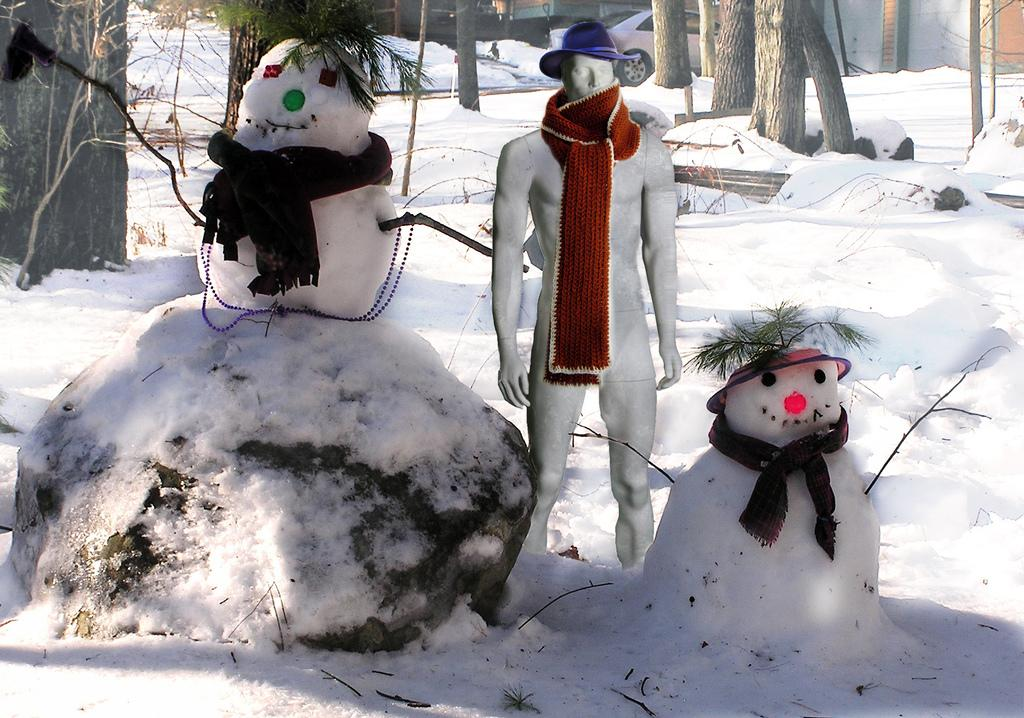Hat: (537, 20, 639, 82)
